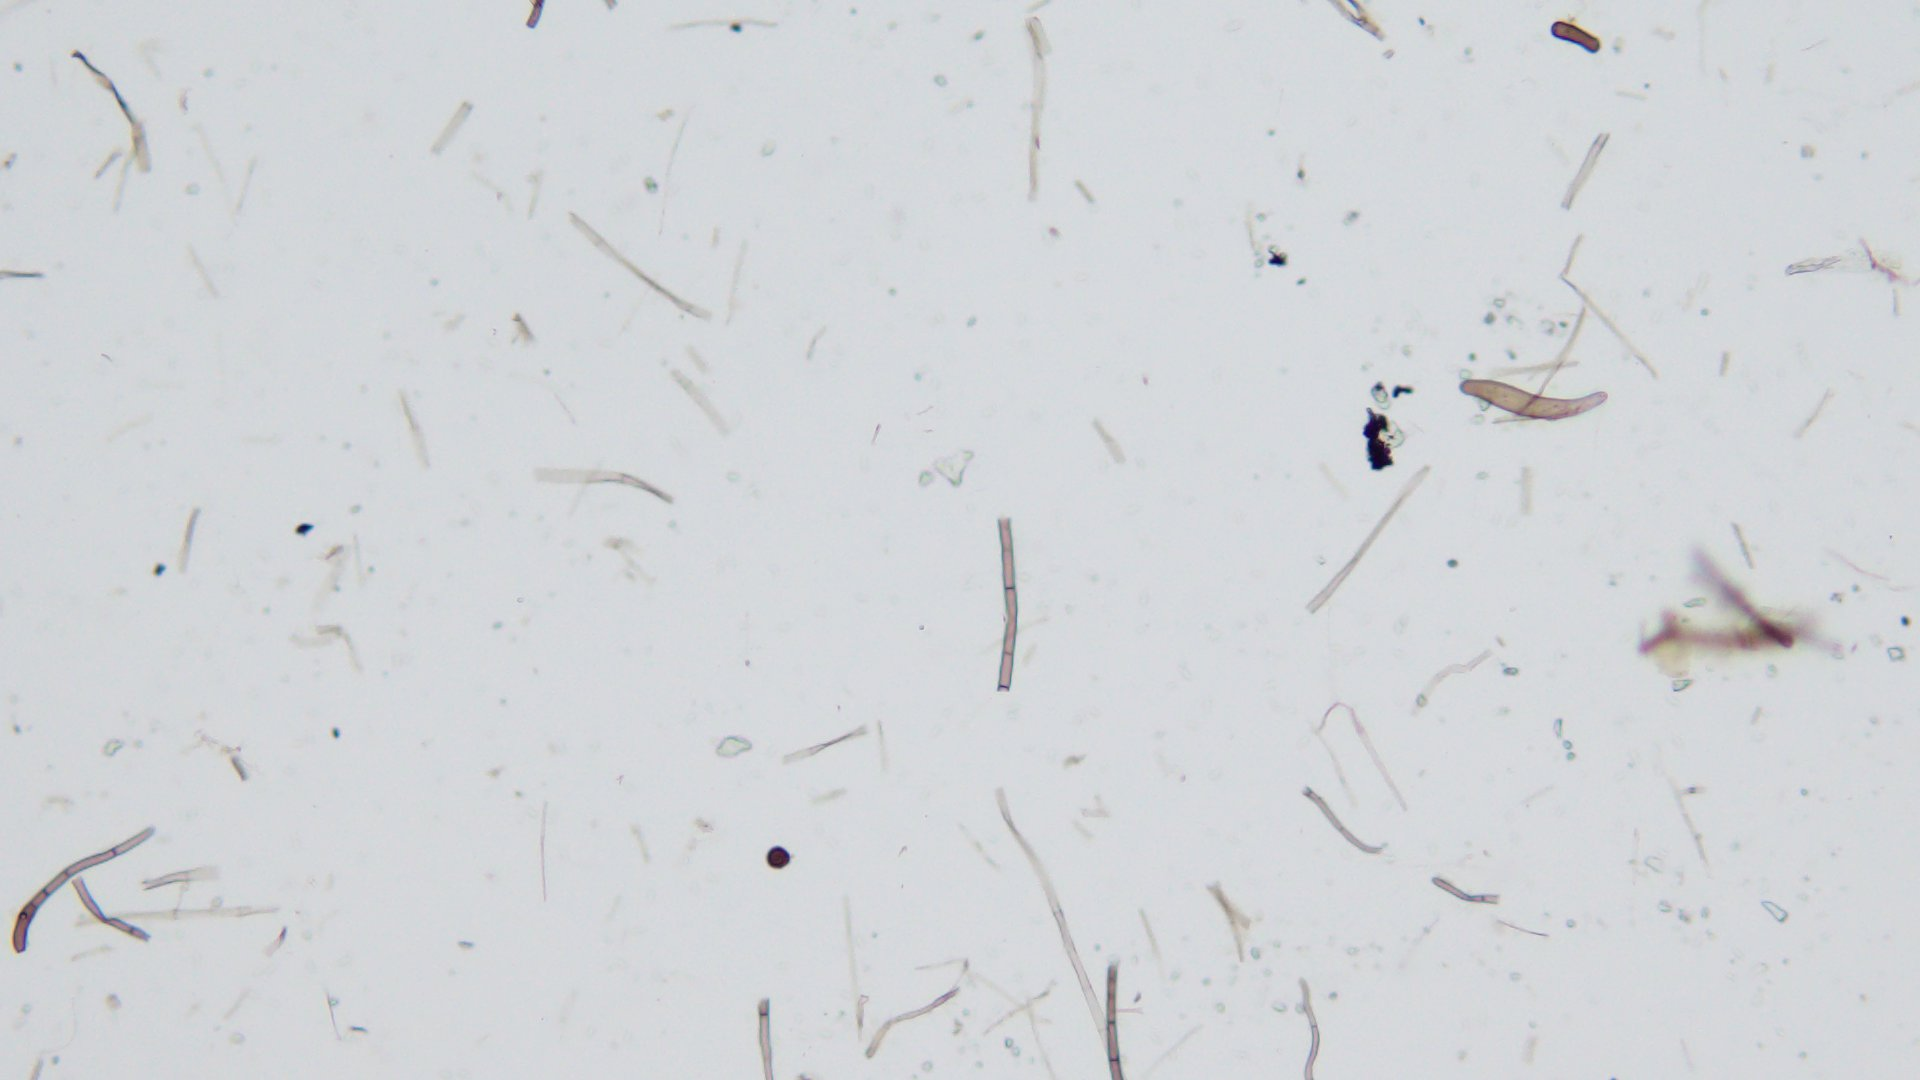dbb_spore: (1458, 371, 1610, 423)
shs_spore: (766, 847, 790, 868)
